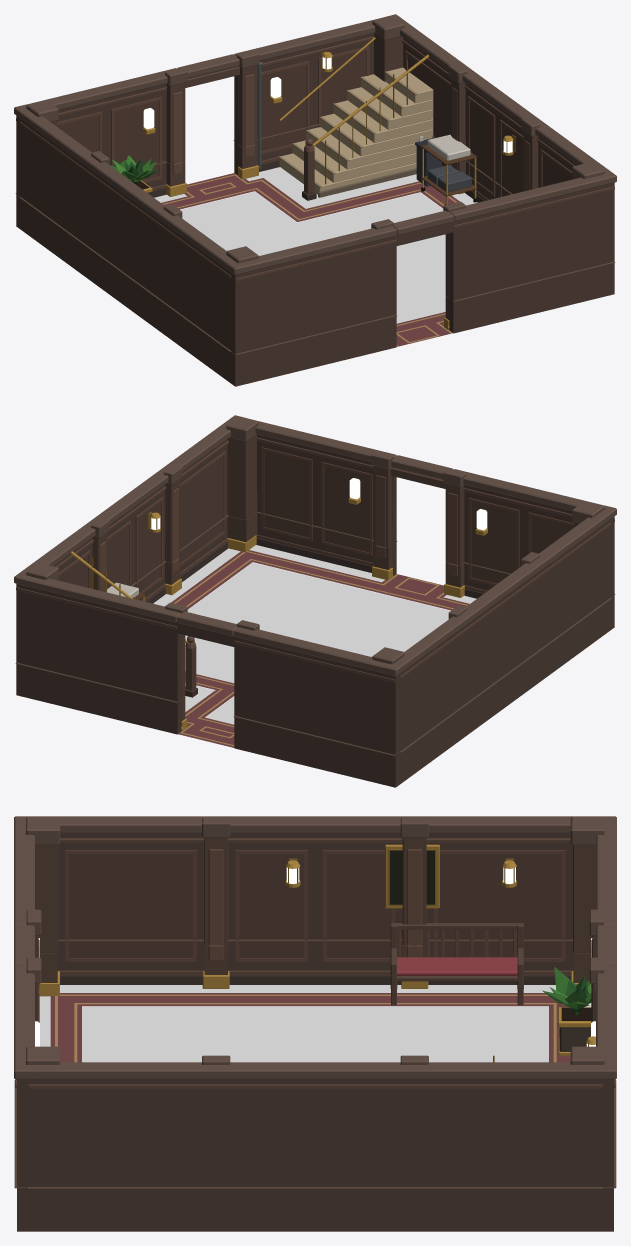
Rendered from stairs.glb.
3 renders of one model, top to bottom at view 1: azimuth 30°, elevation 25°; view 2: azimuth 150°, elevation 25°; view 3: azimuth 270°, elevation 25°, orthographic. The views are drawn at different scales.
Parts seen in each view (by area): view 1: static, W_west_0_up, floor, W_south_0_up, W_south_1_up, W_east_0_up, W_north_1_up, W_north_0_up; view 2: static, floor, W_west_0_up, W_north_0_up, W_north_1_up, W_south_1_up, W_east_0_up, W_south_0_up; view 3: W_east_0_up, W_west_0_up, static, floor, W_north_0_up, W_south_0_up, W_north_1_up, W_south_1_up.
Boxes of the visible parts, left/top/right/bottom form: static: left=15, top=37, right=615, bottom=386; W_west_0_up: left=14, top=104, right=246, bottom=350; floor: left=154, top=167, right=477, bottom=346; W_south_0_up: left=226, top=210, right=453, bottom=353; W_south_1_up: left=443, top=162, right=616, bottom=300; W_east_0_up: left=385, top=14, right=616, bottom=193; W_north_1_up: left=234, top=15, right=404, bottom=146; W_north_0_up: left=14, top=54, right=239, bottom=196; static: left=15, top=493, right=615, bottom=787; floor: left=153, top=545, right=476, bottom=747; W_west_0_up: left=384, top=505, right=616, bottom=751; W_north_0_up: left=177, top=611, right=404, bottom=754; W_north_1_up: left=14, top=563, right=187, bottom=701; W_south_1_up: left=226, top=416, right=396, bottom=547; W_east_0_up: left=14, top=415, right=245, bottom=591; W_south_0_up: left=391, top=455, right=616, bottom=597; W_east_0_up: left=14, top=1055, right=616, bottom=1186; W_west_0_up: left=14, top=816, right=616, bottom=945; static: left=14, top=923, right=616, bottom=1231; floor: left=39, top=985, right=591, bottom=1062; W_north_0_up: left=570, top=816, right=616, bottom=987; W_south_0_up: left=14, top=816, right=60, bottom=987; W_north_1_up: left=570, top=957, right=616, bottom=1186; W_south_1_up: left=14, top=957, right=60, bottom=1186.
Bounding box in the file's own units: 8.08 × 2.48 × 8.08.
